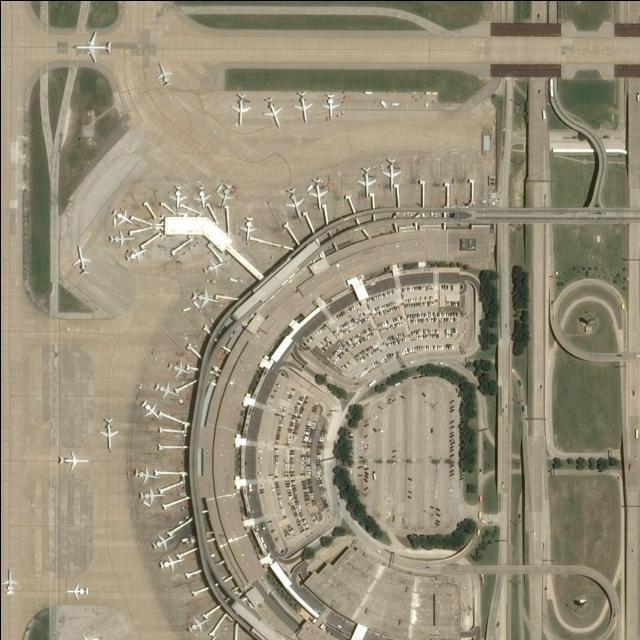Aircraft: (69, 28, 111, 62), (95, 413, 119, 453), (53, 446, 89, 472), (353, 163, 377, 201), (280, 182, 305, 218), (291, 87, 315, 123), (259, 91, 283, 127), (227, 91, 251, 125), (306, 174, 330, 208), (67, 243, 91, 277), (378, 154, 401, 189), (152, 551, 184, 574), (132, 484, 164, 506), (150, 57, 173, 87), (101, 226, 135, 246), (212, 180, 234, 210), (130, 462, 160, 484), (182, 610, 210, 633), (146, 529, 174, 551), (318, 88, 339, 117), (150, 379, 180, 399), (138, 397, 162, 422), (63, 580, 91, 601), (191, 182, 211, 211), (165, 183, 187, 209), (190, 287, 217, 308), (235, 212, 255, 240), (107, 204, 132, 226), (1, 564, 17, 595), (122, 244, 148, 263), (200, 255, 223, 275), (165, 358, 189, 377), (69, 630, 97, 640), (195, 630, 219, 640)
